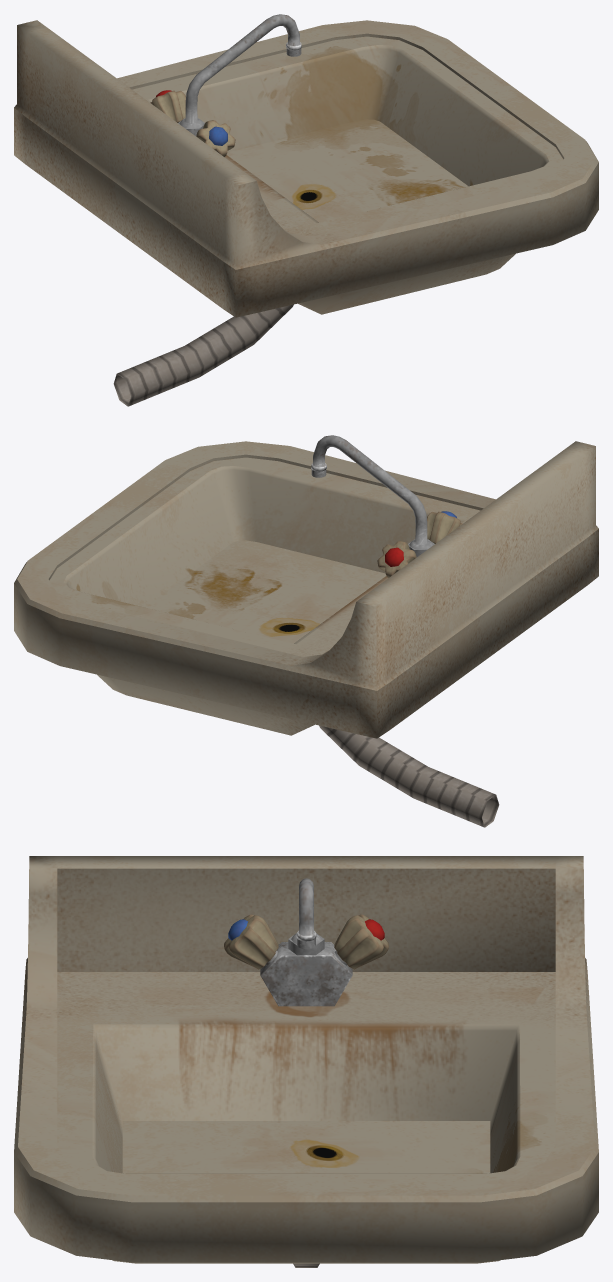
File: DirtySink.glb
3 views of the same model, one above another, from view 1: azimuth 30°, elevation 25°; view 2: azimuth 150°, elevation 25°; view 3: azimuth 270°, elevation 25° (orthographic). The views are drawn at different scales.
Visible parts, largest first — view 1: Sink; view 2: Sink; view 3: Sink.
Boxes of the visible parts, left/top/right/bottom form: Sink: left=14, top=14, right=598, bottom=406; Sink: left=14, top=435, right=598, bottom=827; Sink: left=14, top=856, right=598, bottom=1267.
Bounding box in the file's own units: 2.33 × 1.96 × 2.35.
1 material, 1 textured.
